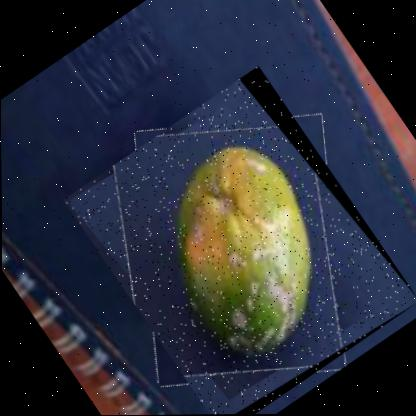orange_rotten: (58, 63, 415, 415)
